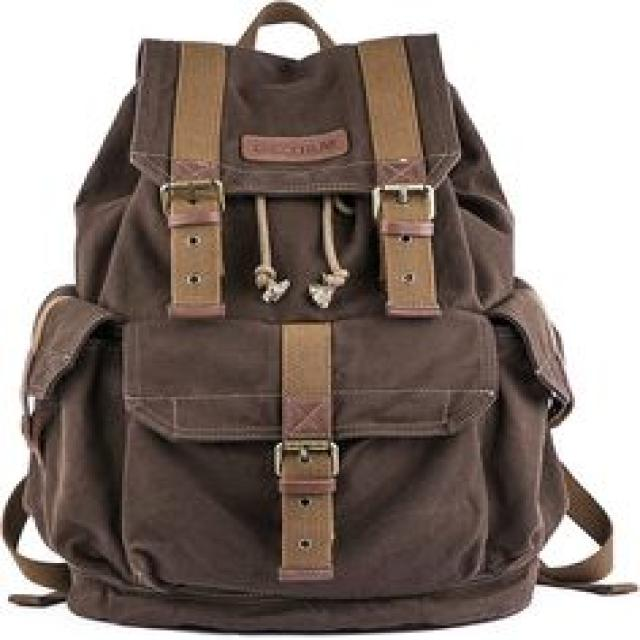backpack: (1, 1, 638, 634)
